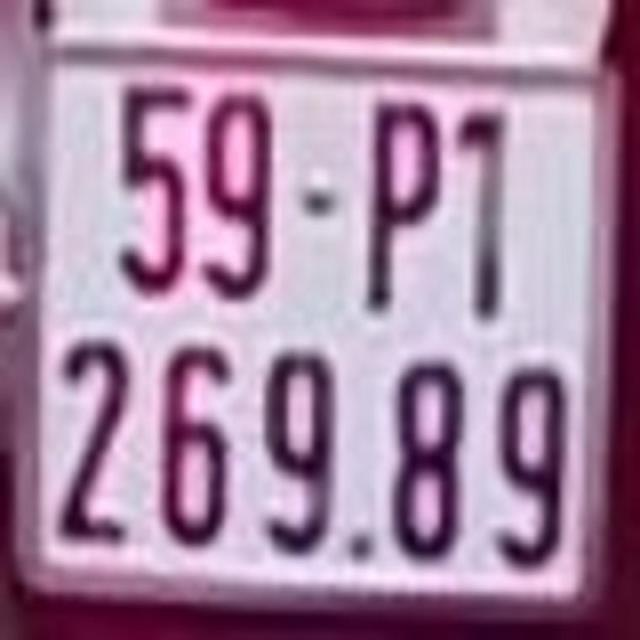1: (454, 104, 511, 321)
2: (57, 336, 131, 544)
5: (114, 78, 192, 295)
6: (160, 338, 232, 547)
8: (394, 358, 462, 561)
9: (201, 84, 275, 302), (260, 343, 334, 556), (496, 361, 566, 570)
P: (365, 94, 443, 315)
